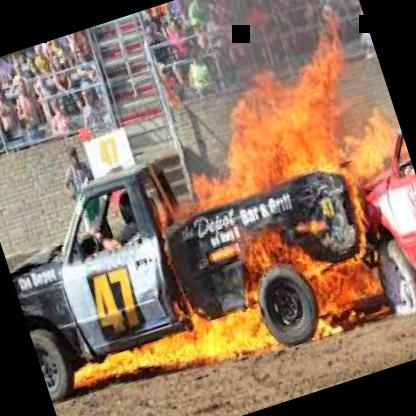fire: (139, 54, 416, 361)
